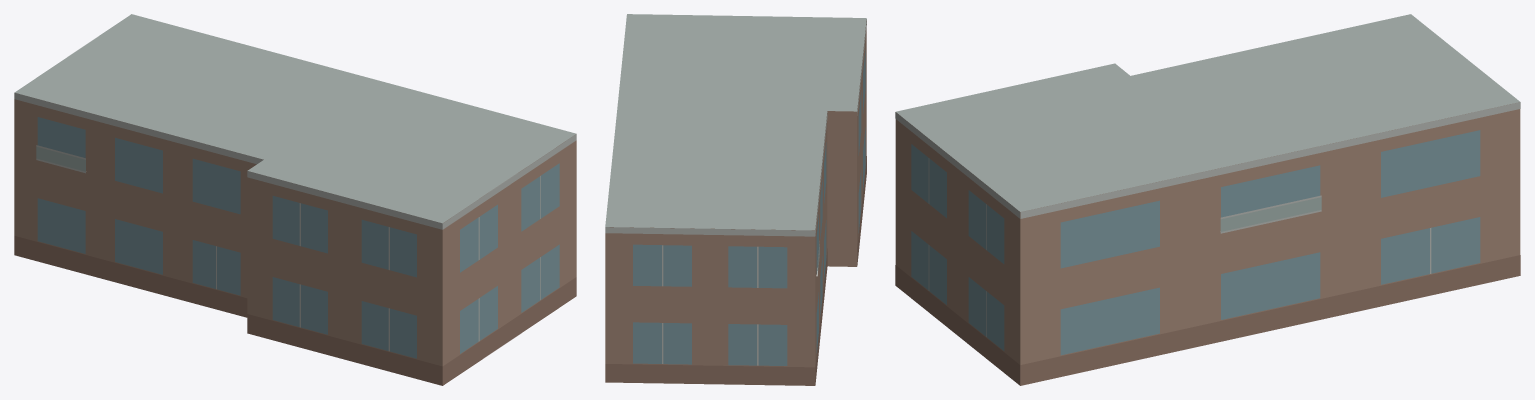
Rendered from survey-upis-32891709.glb.
3 renders of one model, left to right at view 1: azimuth 30°, elevation 25°; view 2: azimuth 150°, elevation 25°; view 3: azimuth 270°, elevation 25°, orthographic. The views are drawn at different scales.
Visible parts, largest first — view 1: survey-upis-32891709.tmp; view 2: survey-upis-32891709.tmp; view 3: survey-upis-32891709.tmp.
Part boxes in pixels (x1=…): survey-upis-32891709.tmp: x1=14, y1=14, x2=576, y2=385; survey-upis-32891709.tmp: x1=605, y1=14, x2=866, y2=385; survey-upis-32891709.tmp: x1=895, y1=14, x2=1520, y2=385.
Bounding box in the file's own units: 14.92 × 6.1 × 19.89.
